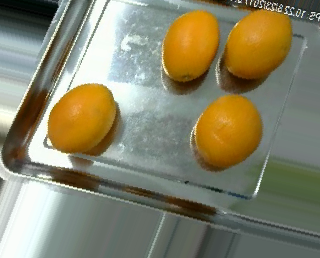Orange: (193, 93, 264, 168), (47, 82, 116, 152), (224, 9, 293, 79), (161, 10, 220, 83)
